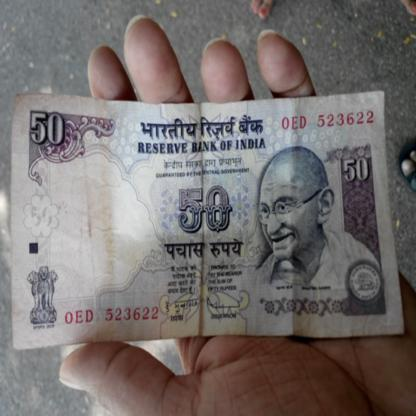Old50Front: (6, 90, 406, 350)
